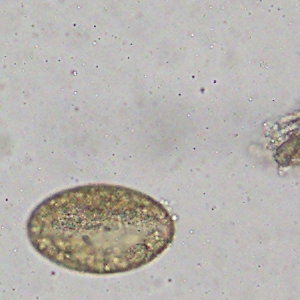Fasciola_hepatica_egg: (26, 181, 177, 275)
